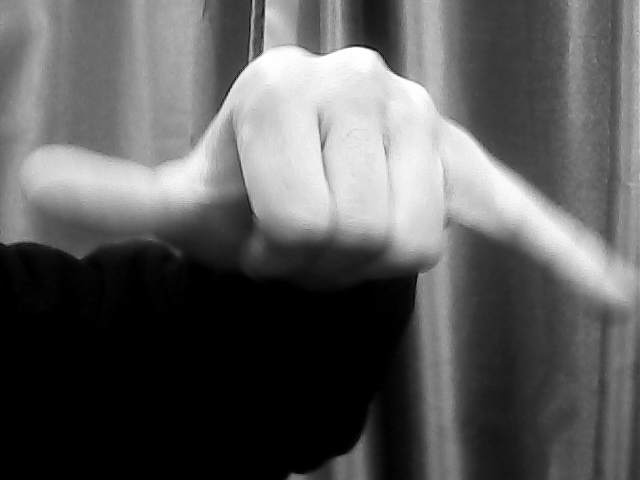aloha: (8, 41, 640, 324)
